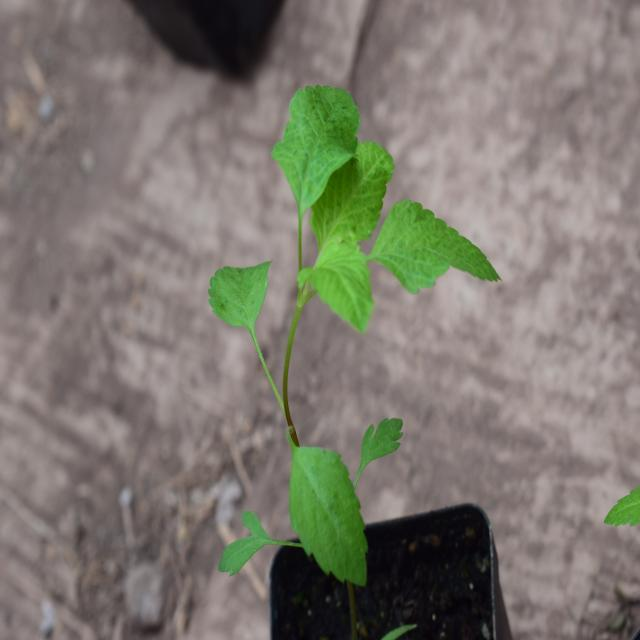Bidens pilosa: (206, 79, 493, 588)
